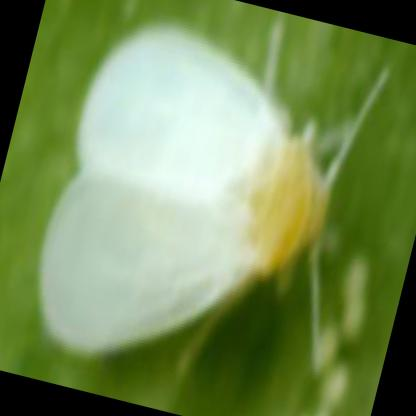whitefly: (41, 21, 330, 367)
